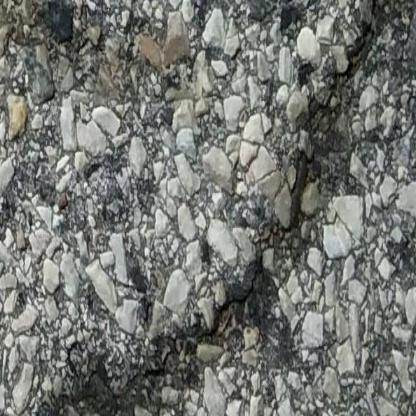Cracks: (29, 0, 416, 416), (0, 0, 203, 105)
